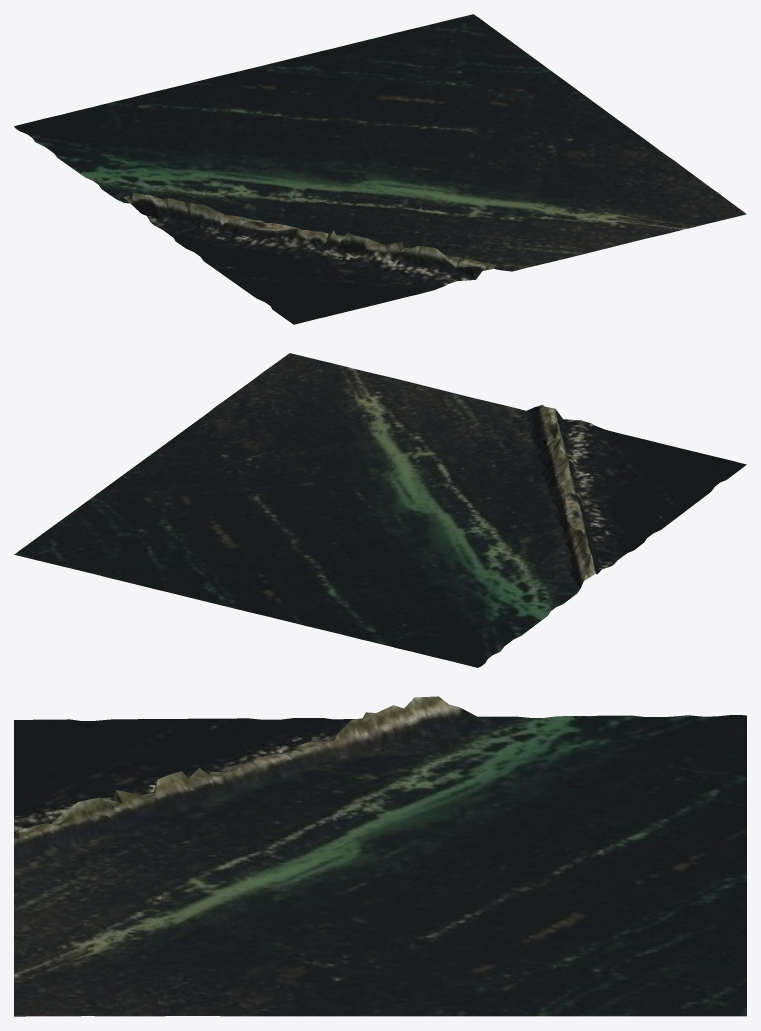
3 renders of one model, top to bottom at view 1: azimuth 30°, elevation 25°; view 2: azimuth 150°, elevation 25°; view 3: azimuth 270°, elevation 25°, orthographic. The views are drawn at different scales.
Bounding box in the file's own units: 203 × 8.47 × 209.
3 materials, 3 textured.
